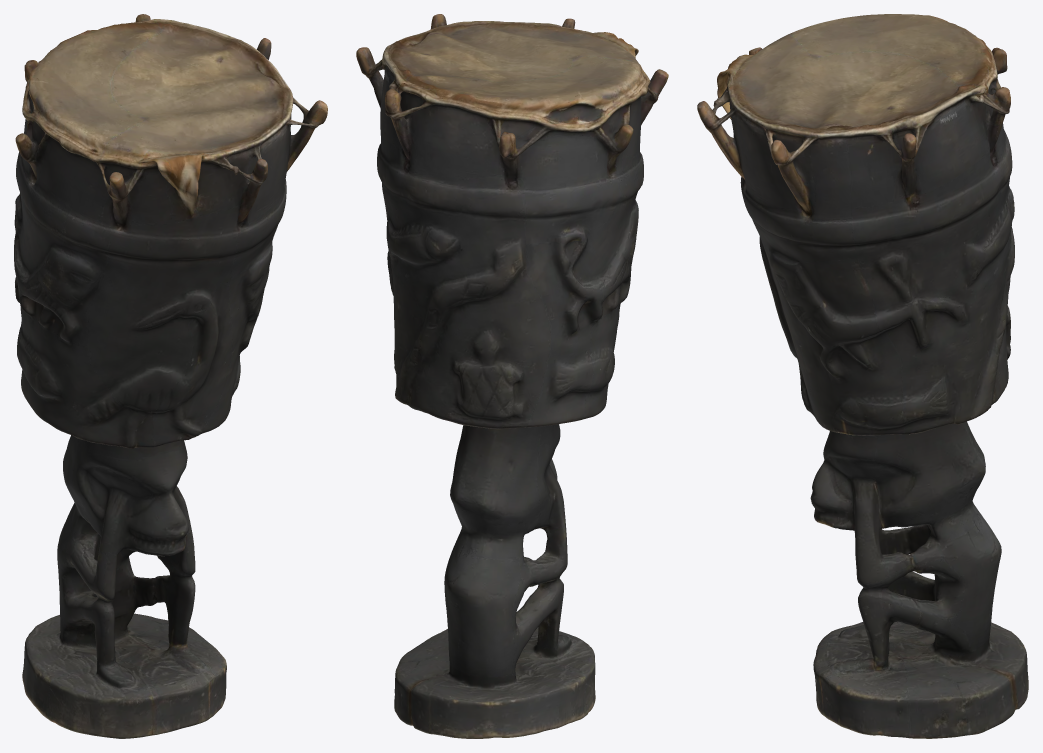
Rendered from preview.glb.
The picture shows the model from 3 angles, left to right: view 1: azimuth 30°, elevation 25°; view 2: azimuth 150°, elevation 25°; view 3: azimuth 270°, elevation 25°; orthographic projection.
Visible parts, largest first — view 1: M_O_A_404_Beben_20texture_0; view 2: M_O_A_404_Beben_20texture_0; view 3: M_O_A_404_Beben_20texture_0.
Part boxes in pixels (x1,y1,x2,y2): M_O_A_404_Beben_20texture_0: [14, 14, 327, 738]; M_O_A_404_Beben_20texture_0: [356, 14, 668, 738]; M_O_A_404_Beben_20texture_0: [697, 14, 1028, 738].
Size of the model in its own units: 301 by 695 by 323.
1 material, 1 textured.
